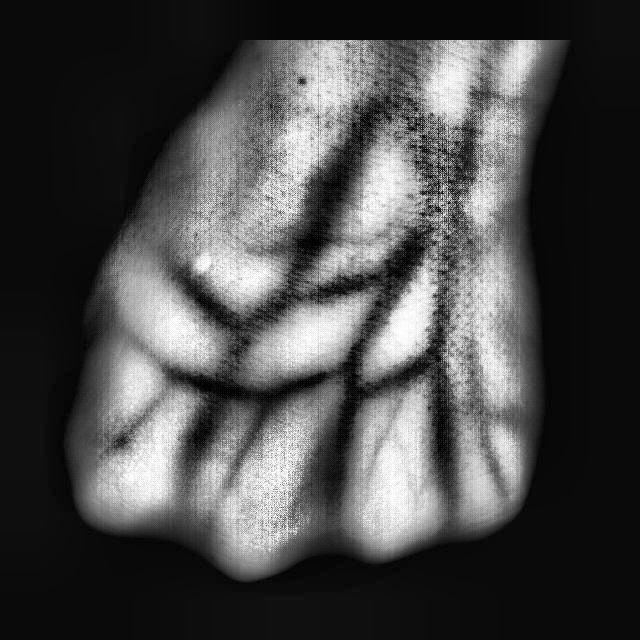Vein: (248, 133, 379, 326)
